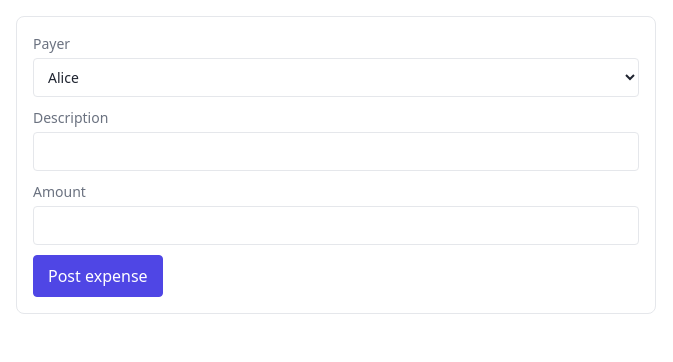
it: ExpenseForm › rejects a zero or blank amount without calling the API
This screenshot has width=673, height=362.
Type "Dinner" into the field labelled "Description" at [336, 152], box x1=33 y1=132 x2=639 y2=171
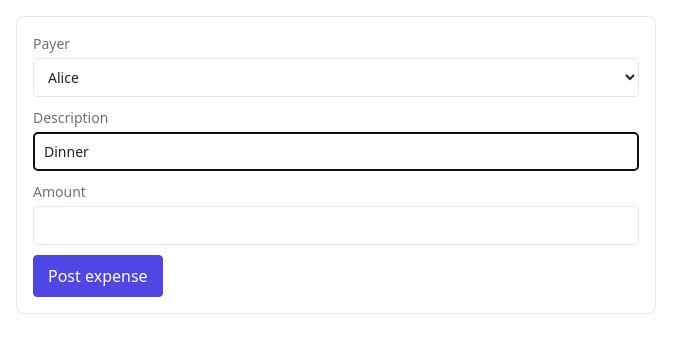
Type "0" into the number field labelled "Amount" at [336, 226], box x1=33 y1=206 x2=639 y2=245
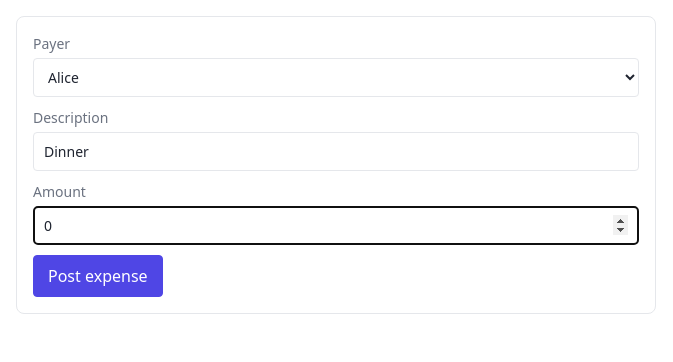
Click the button "Post expense" at [98, 276], box x1=33 y1=255 x2=163 y2=297
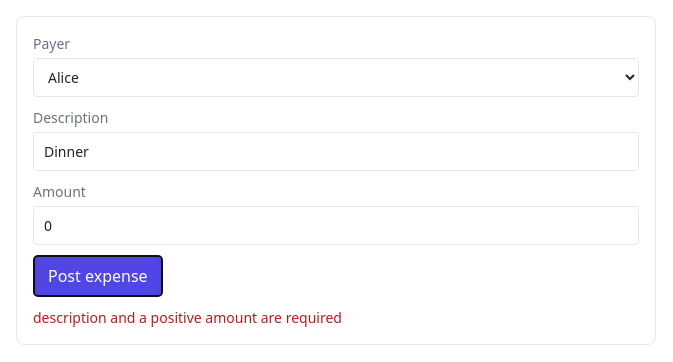
expect the text "description and a positive amount are required" is shown: met, box x1=33 y1=308 x2=342 y2=327
